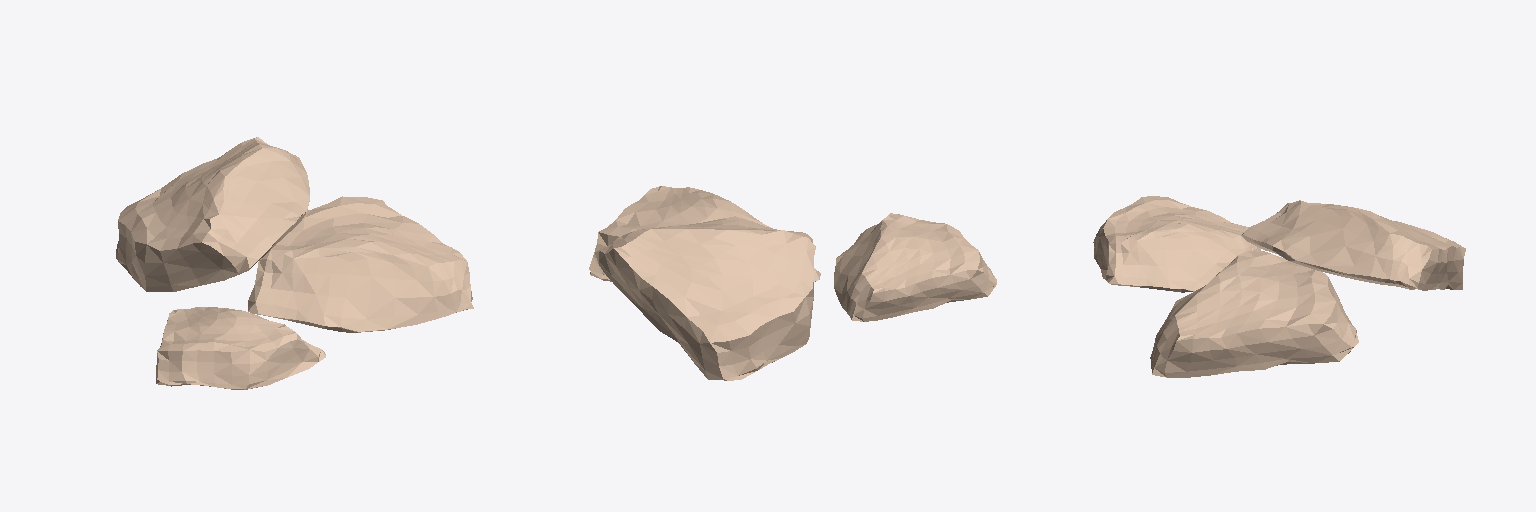
The model's file is agrisphere-stones.obj.
3 renders of one model, left to right at view 1: azimuth 30°, elevation 25°; view 2: azimuth 150°, elevation 25°; view 3: azimuth 270°, elevation 25°, orthographic.
Visible parts, largest first — view 1: Plane, Plane001, Plane002; view 2: Plane001, Plane002, Plane; view 3: Plane, Plane001, Plane002.
Boxes of the visible parts, <box> form: Plane: <box>248,196,473,332</box>; Plane001: <box>116,137,309,291</box>; Plane002: <box>156,307,325,389</box>; Plane001: <box>595,216,815,380</box>; Plane002: <box>834,213,996,321</box>; Plane: <box>589,186,820,281</box>; Plane: <box>1150,249,1358,377</box>; Plane001: <box>1241,200,1465,290</box>; Plane002: <box>1093,196,1260,292</box>.
Size of the model in its own units: 8.68 by 2.69 by 8.58.